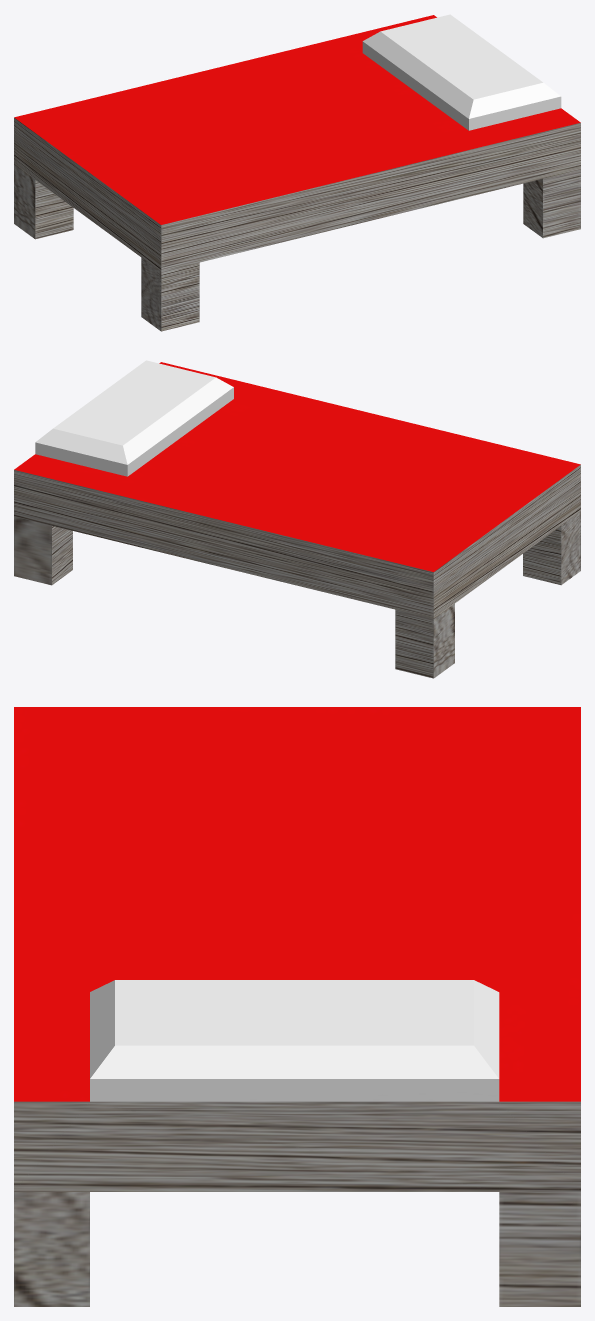
Rendered from Bed.fbx.
3 views of the same model, one above another, from view 1: azimuth 30°, elevation 25°; view 2: azimuth 150°, elevation 25°; view 3: azimuth 270°, elevation 25° (orthographic). The views are drawn at different scales.
Visible parts, largest first — view 1: pCube1; view 2: pCube1; view 3: pCube1.
Part boxes in pixels (box(x1,y1,x2,y2)): pCube1: box(14, 14, 580, 331); pCube1: box(14, 360, 580, 678); pCube1: box(14, 707, 580, 1306).
Bounding box in the file's own units: 1.9 × 0.5634 × 1.16.
1 material, 1 textured.
